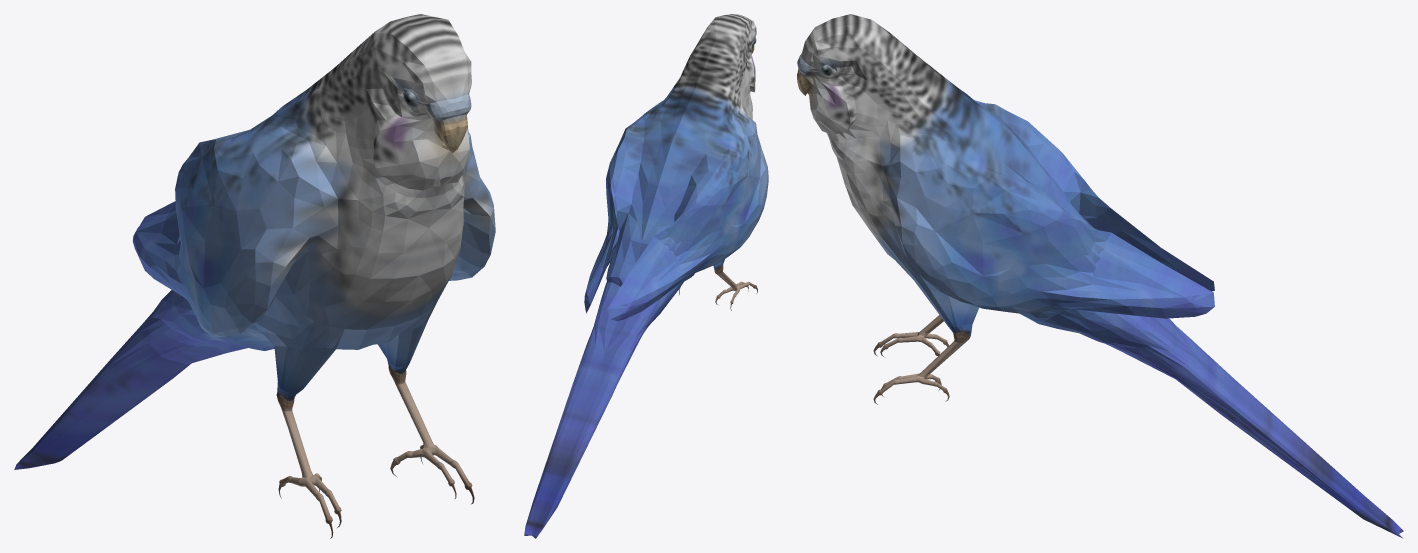
The model's file is parakeet.FBX.
The picture shows the model from 3 angles, left to right: view 1: azimuth 30°, elevation 25°; view 2: azimuth 150°, elevation 25°; view 3: azimuth 270°, elevation 25°; orthographic projection. The views are drawn at different scales.
Parts seen in each view (by area): view 1: parakeet; view 2: parakeet; view 3: parakeet.
Part boxes in pixels (bbox=[...]): parakeet: bbox=[14, 14, 495, 538]; parakeet: bbox=[524, 14, 768, 538]; parakeet: bbox=[797, 14, 1403, 538].
Bounding box in the file's own units: 21.8 × 60.29 × 64.38.
1 material, 1 textured.
